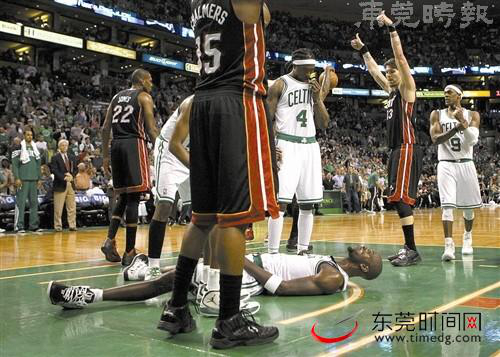fall: (33, 232, 398, 319)
